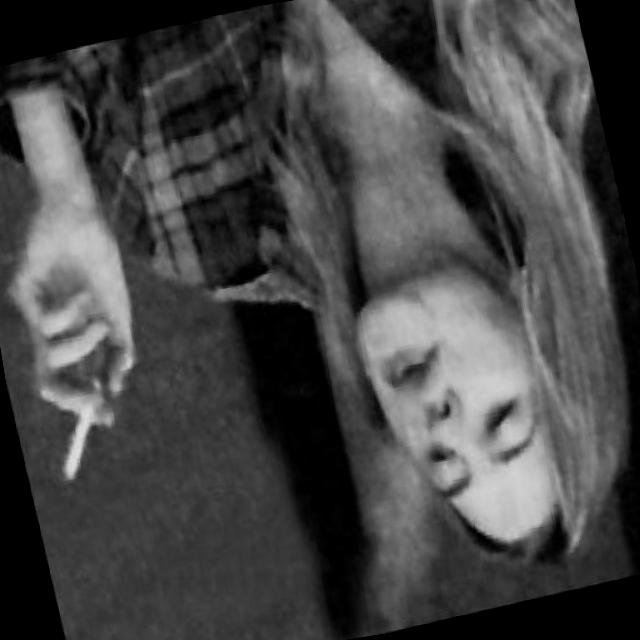cigarette: (44, 378, 123, 484)
